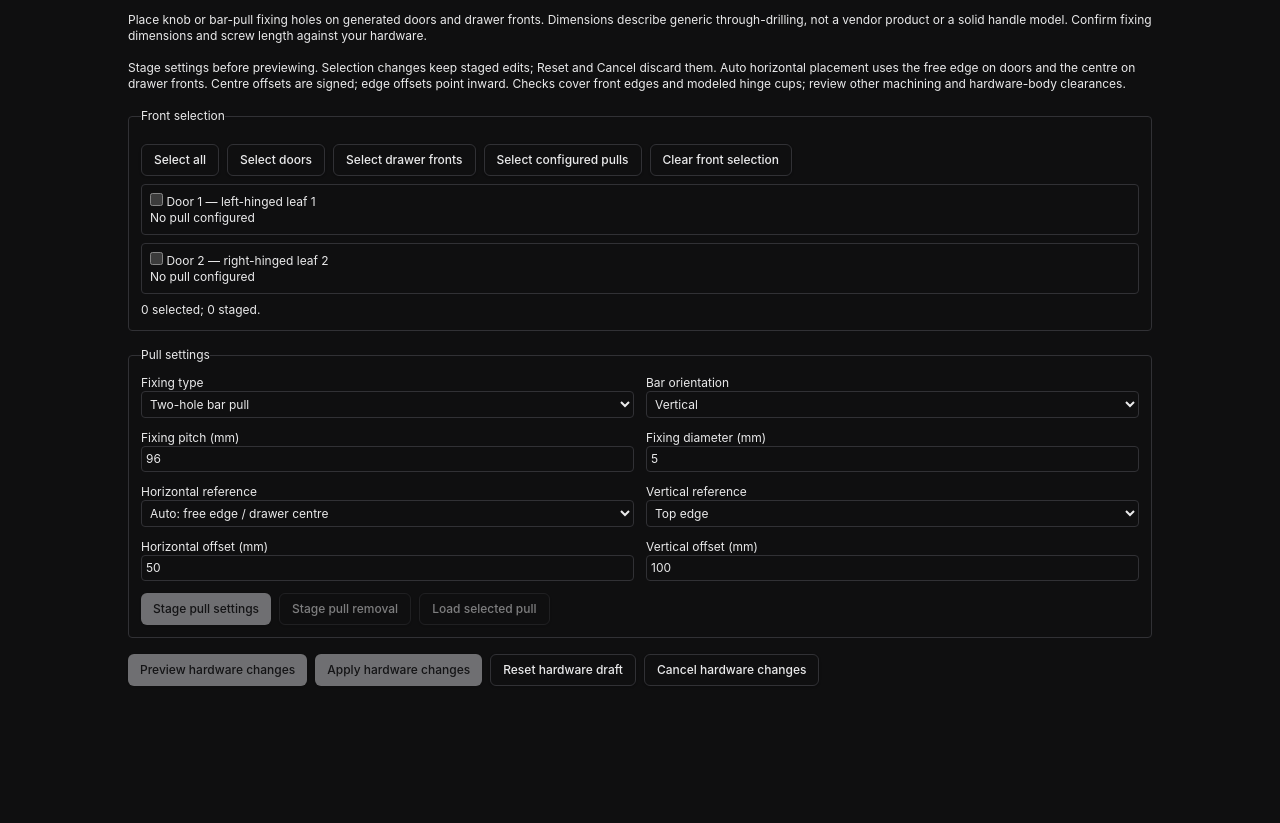
stages both leaves, previews real drilling in three views and applies only explicitly
Check: the number of checkboxes is 2, box 150,193 -> 163,206; 150,252 -> 163,265
Click the button "Select all" at point(180, 160), box 141,144 -> 219,176
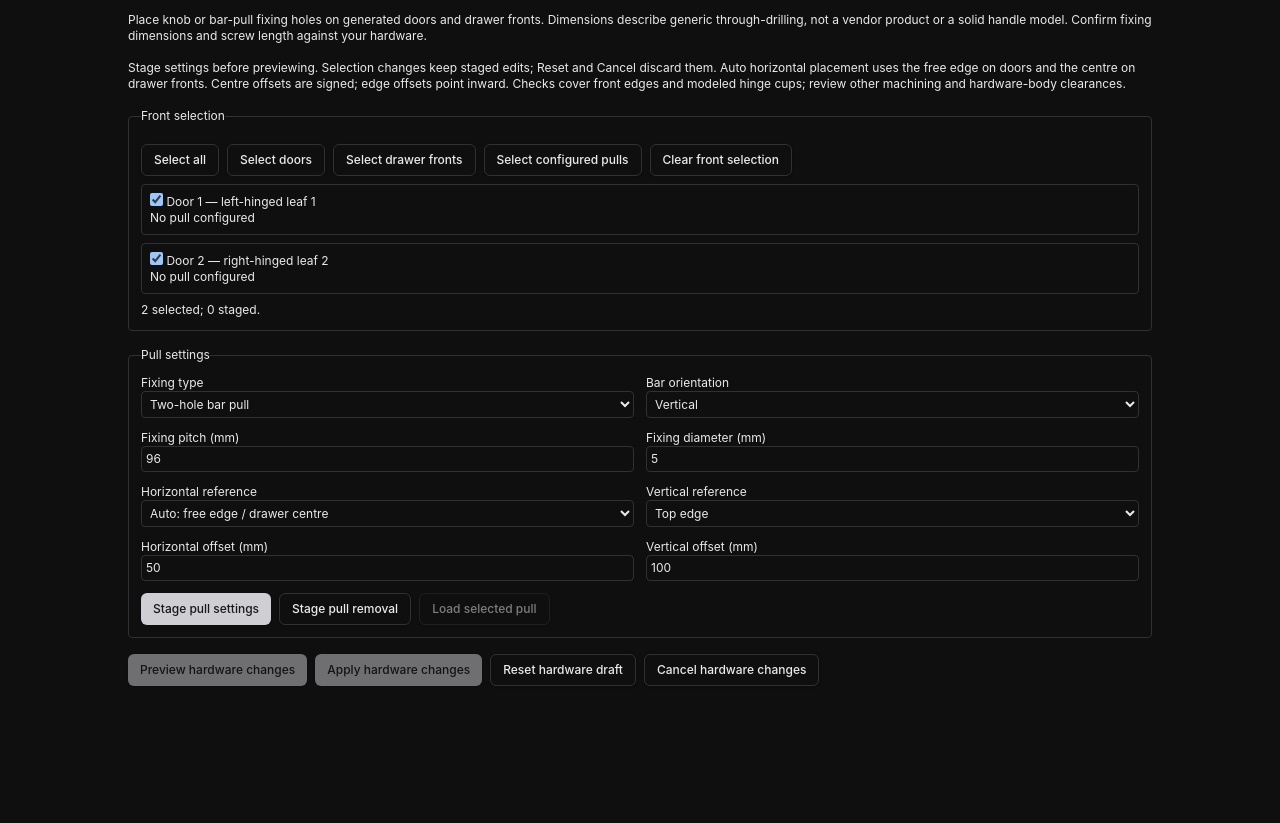
Click the button "Stage pull settings" at point(206, 609), box 141,593 -> 271,625
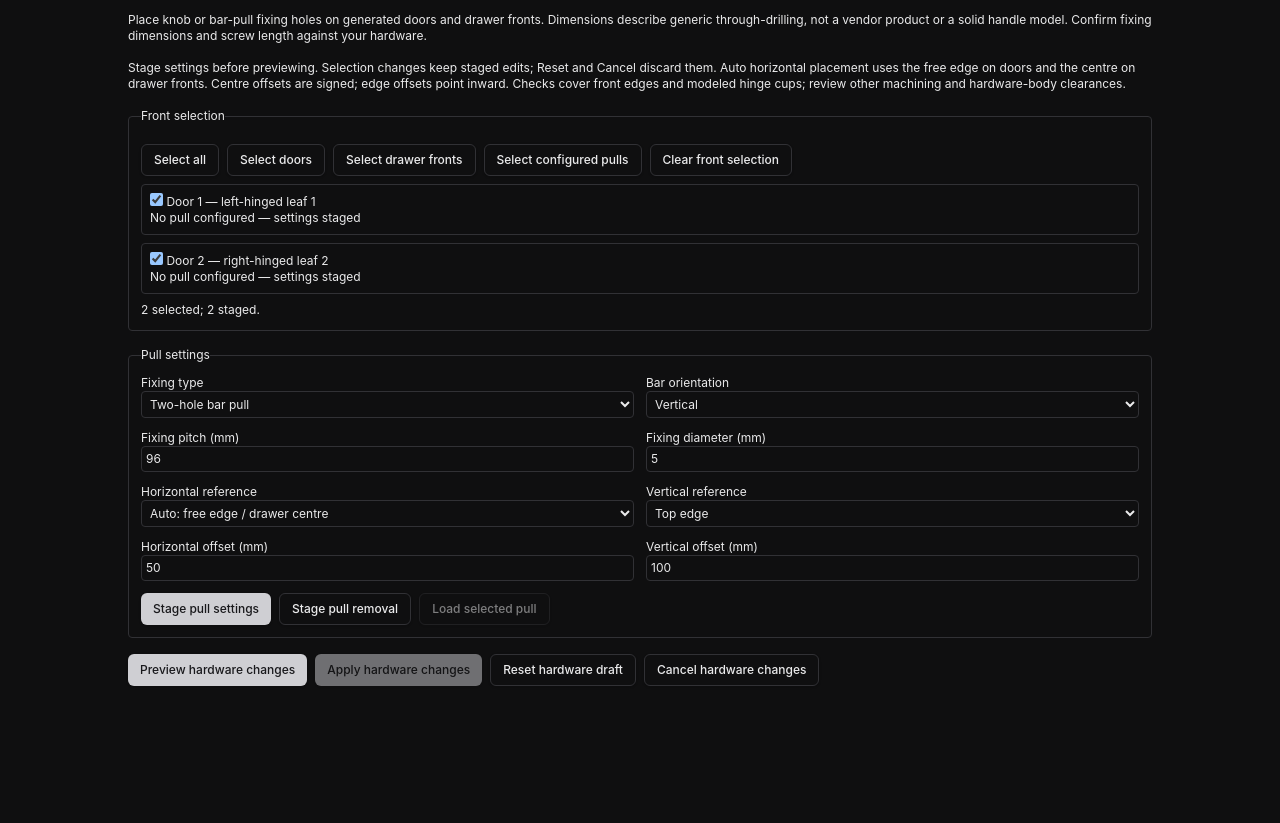
Click the button "Preview hardware changes" at point(218, 670), box 128,654 -> 307,686
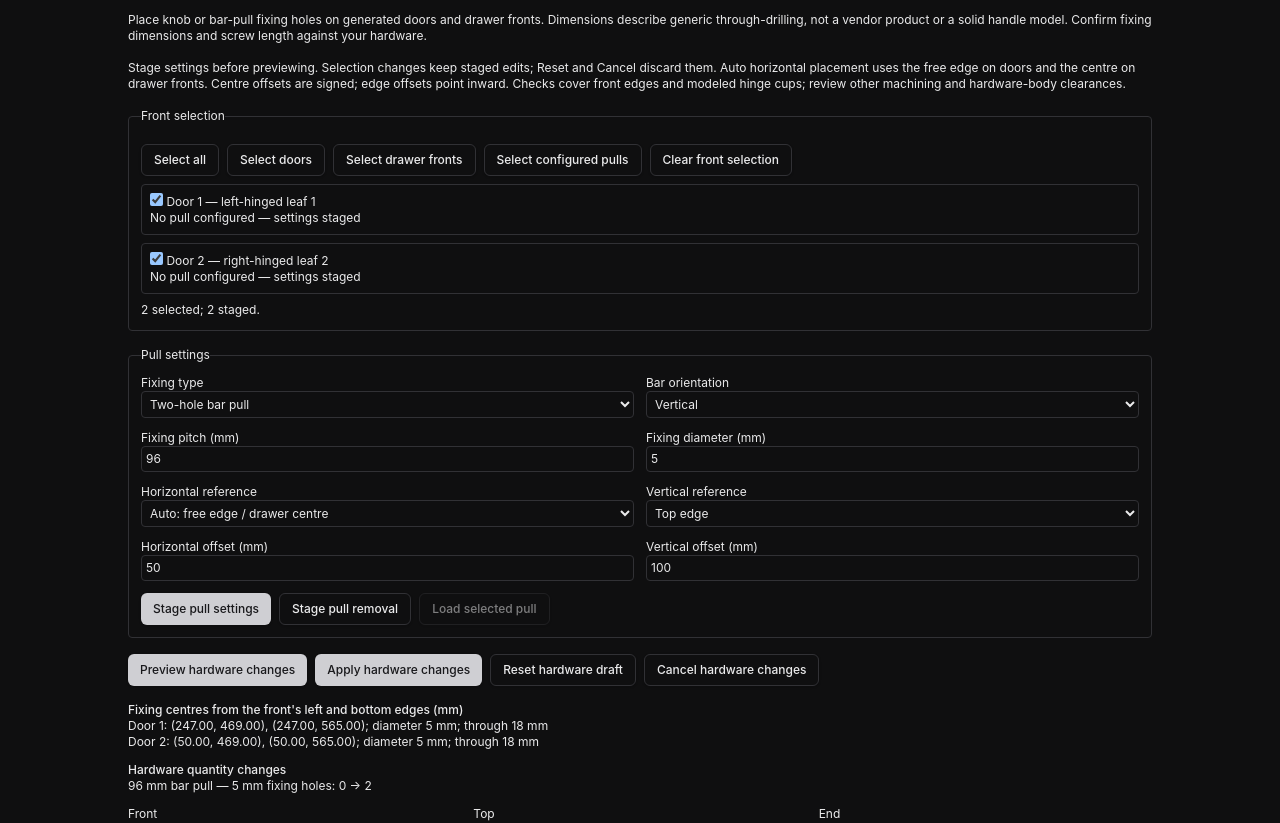
Check: the element named "Pull fixing summary" shows "diameter 5 mm; through 18 mm", box 171,718 -> 548,733
Check: the element named "Pull hardware quantities" shows "0 → 2", box 128,762 -> 372,793
Click the button "Apply hardware changes" at point(399, 670), box 315,654 -> 482,686
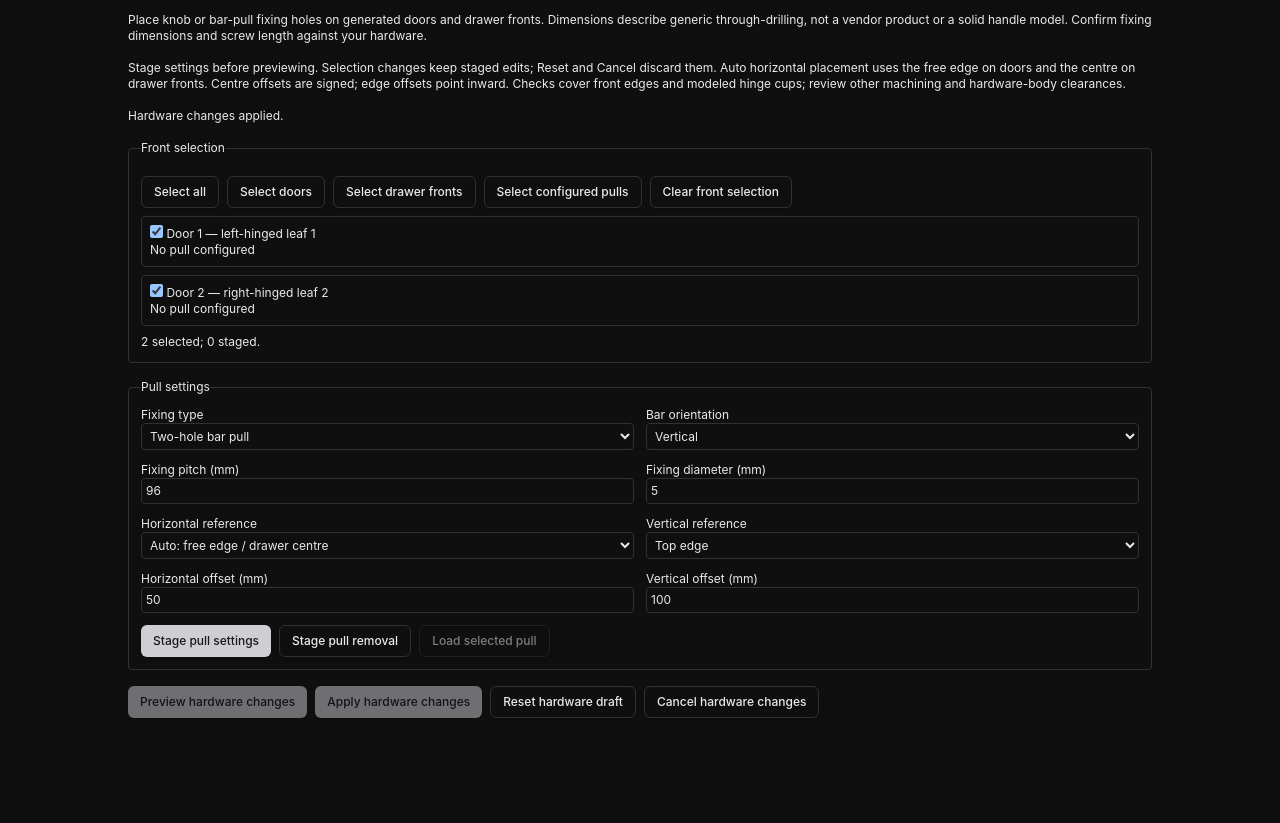
Check: the message shows "applied", box 128,108 -> 284,123
